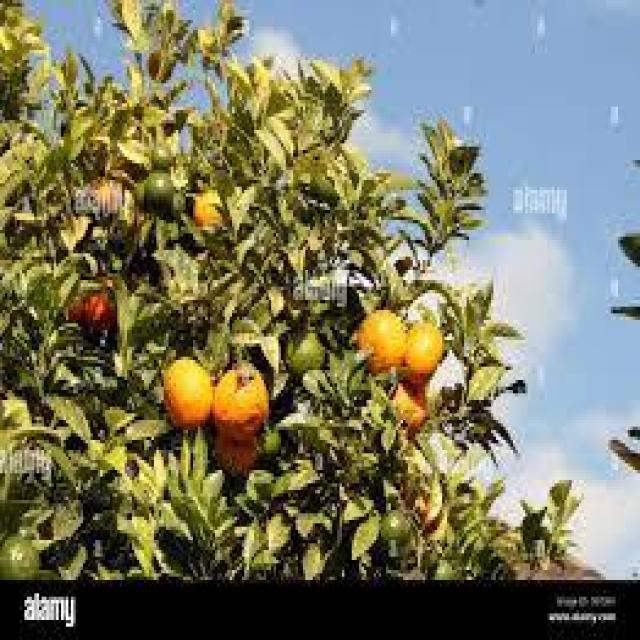fruit: (211, 368, 269, 442), (162, 355, 214, 429), (357, 309, 408, 372), (404, 322, 444, 375), (214, 427, 258, 474), (285, 329, 327, 377), (0, 534, 40, 580), (392, 382, 428, 433), (142, 172, 176, 220), (142, 42, 177, 84), (380, 509, 414, 550), (304, 171, 340, 207), (82, 292, 114, 331), (193, 190, 225, 228), (255, 422, 284, 463), (67, 294, 90, 324), (413, 494, 432, 526), (151, 144, 174, 170), (432, 559, 459, 580)
